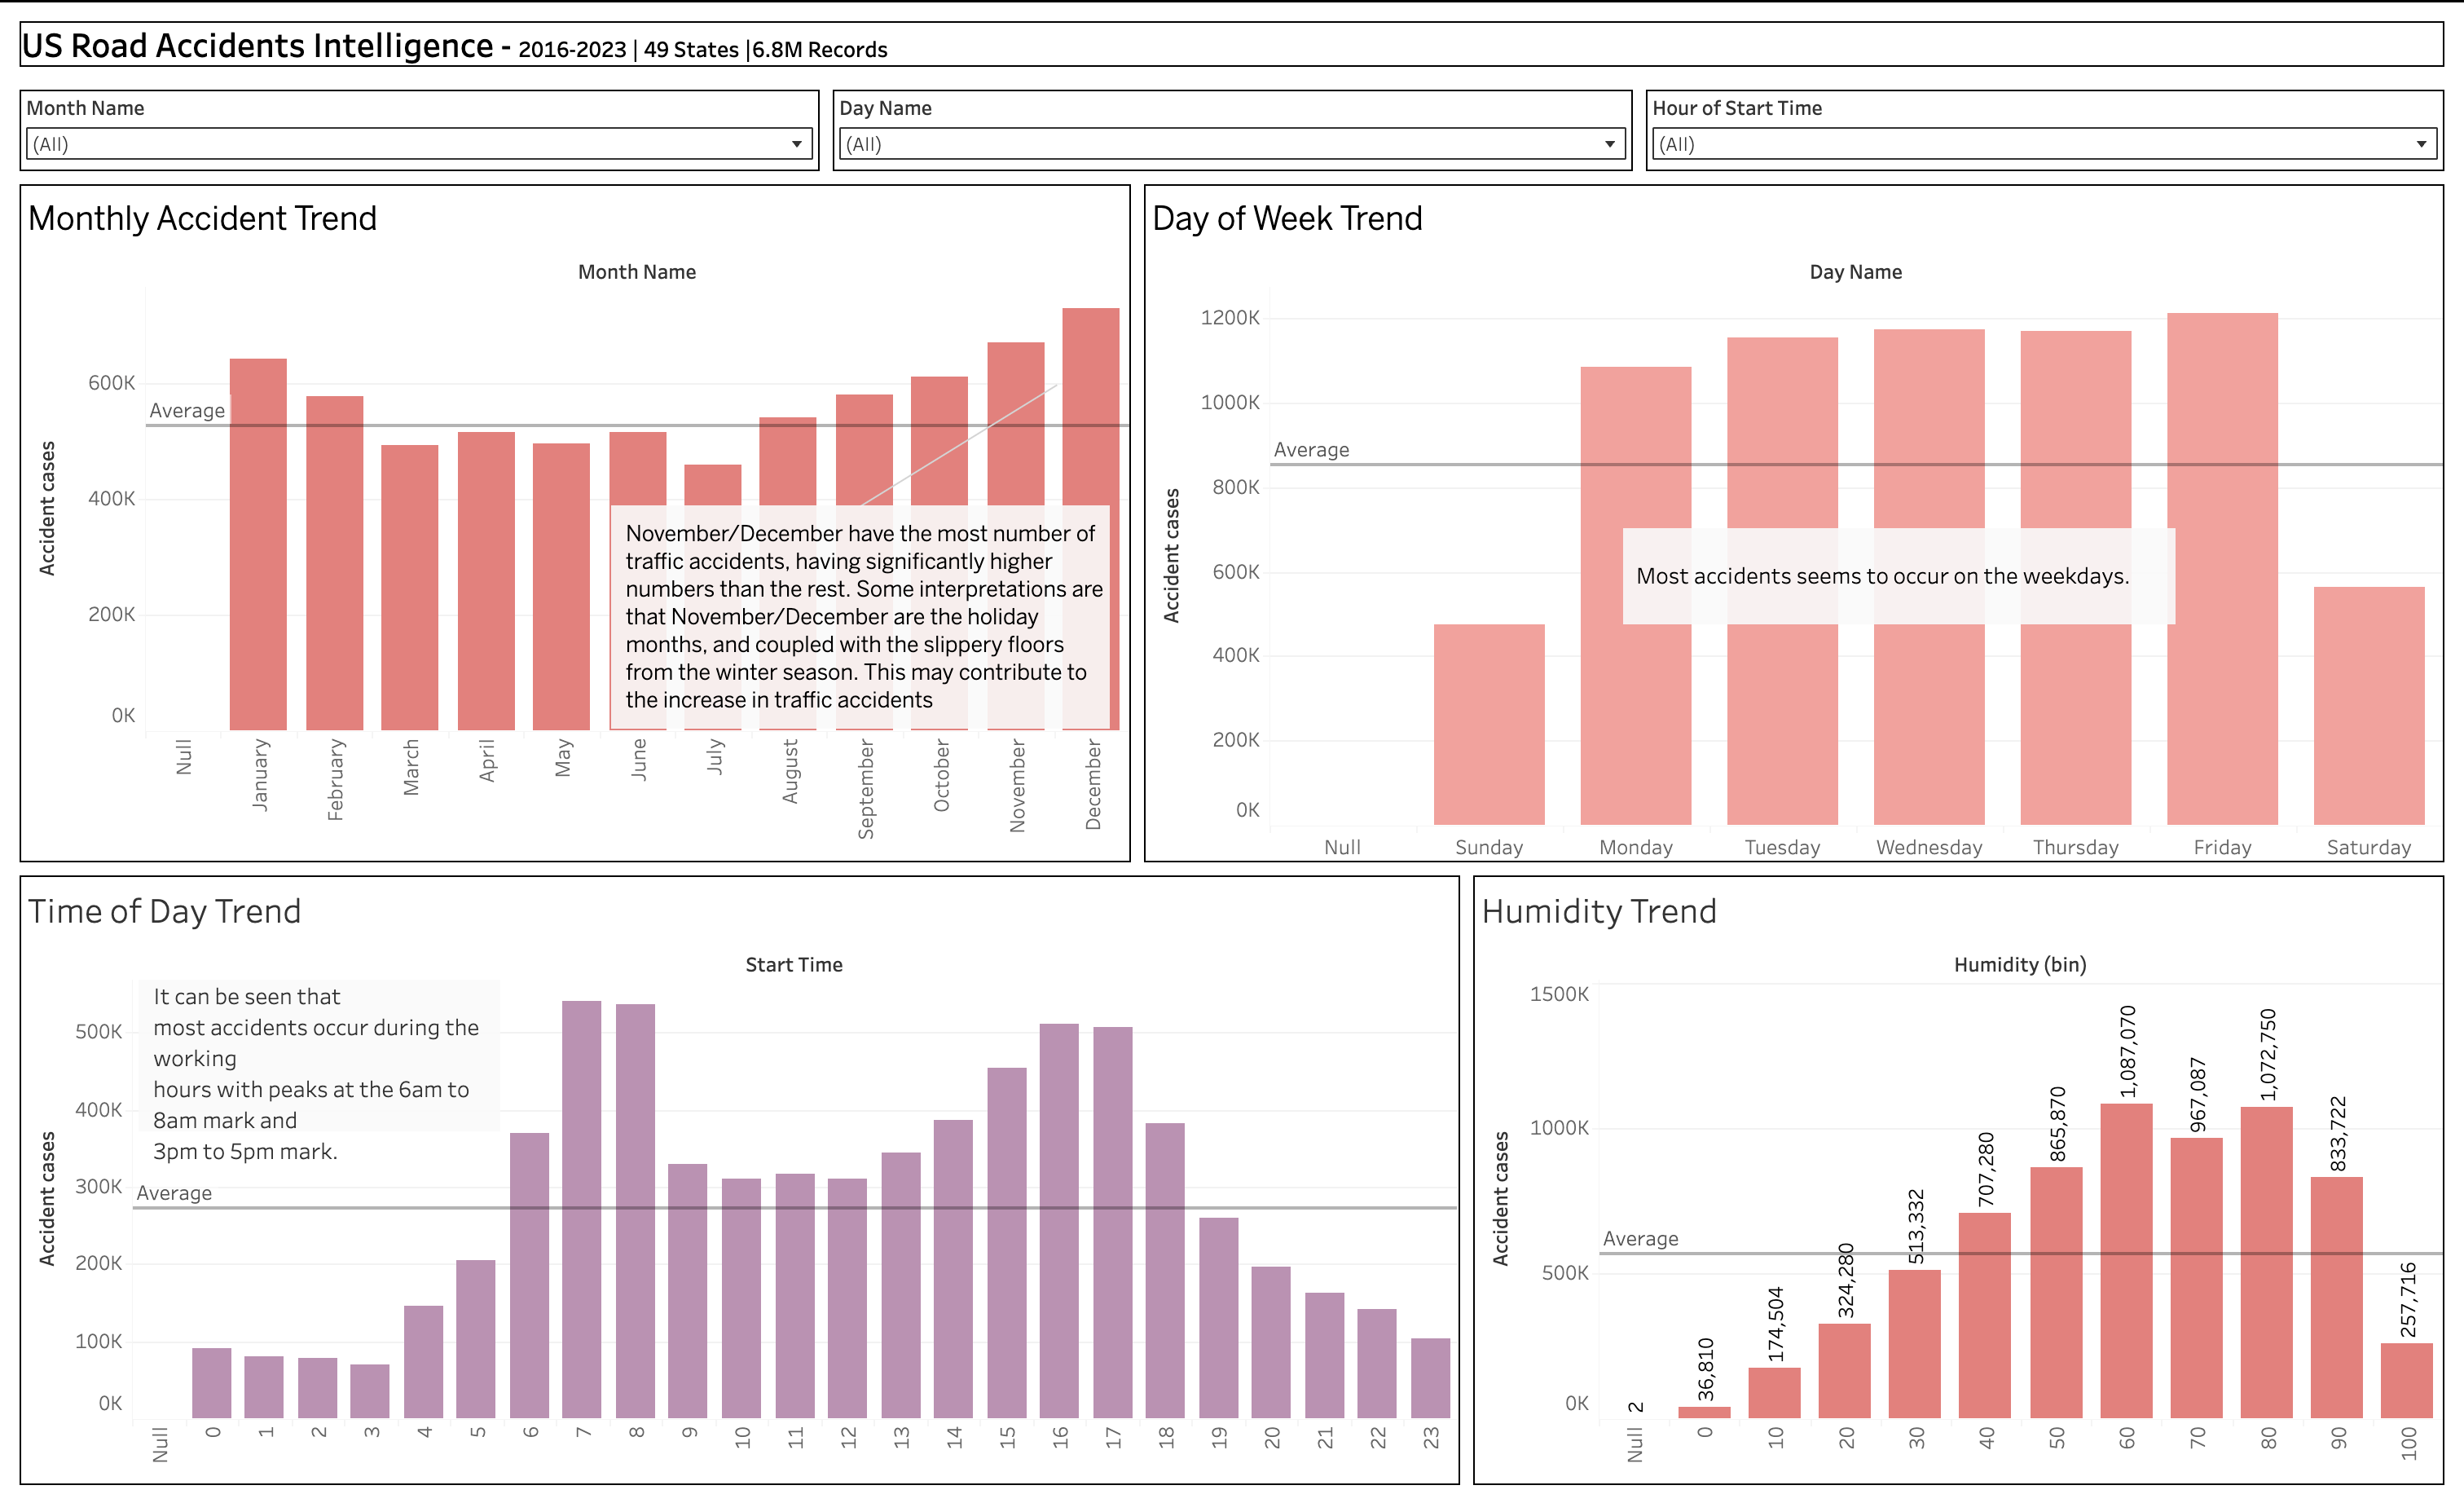

Layout of this report page (visuals, bound fields, positions):
{"tool":"tableau","page":{"name":"Dashboard 3","canvas":[1000,1000],"units":"permille","ordinal":2},"visuals":[{"type":"text","box":[6.4,9.3,987.2,42]},{"type":"filter","title":"Monthly Accident Trend","param":"[federated.0vynbig0w05bun196jmne17aki0o].[none:month_name:nk]","box":[6.4,58.3,329.3,63]},{"type":"filter","title":"Day of Week Trend","param":"[federated.0vynbig0w05bun196jmne17aki0o].[none:day_name:nk]","box":[335.7,58.3,329.3,63]},{"type":"filter","title":"Time of Day Trend","param":"[federated.0vynbig0w05bun196jmne17aki0o].[hr:start_time:ok]","box":[665.1,58.3,328.5,63]},{"type":"worksheet","title":"Monthly Accident Trend","mark":"Bar","rows":["tableau_ready_dataset.csv_8C1C7BC66160482F94DCC14117341AE9"],"cols":["month_name"],"box":[6.4,121.4,551.6,455.1]},{"type":"worksheet","title":"Day of Week Trend","mark":"Automatic","rows":["tableau_ready_dataset.csv_8C1C7BC66160482F94DCC14117341AE9"],"cols":["day_name"],"box":[557.9,121.4,435.6,455.1]},{"type":"worksheet","title":"Time of Day Trend","mark":"Bar","rows":["tableau_ready_dataset.csv_8C1C7BC66160482F94DCC14117341AE9"],"cols":["start_time"],"box":[6.4,576.4,588.3,414.2]},{"type":"worksheet","title":"Humidity","mark":"Automatic","rows":["tableau_ready_dataset.csv_8C1C7BC66160482F94DCC14117341AE9"],"cols":["Humidity (bin)"],"box":[594.7,576.4,398.9,414.2]}]}

Visuals, with their boxes on the dashboard's canvas, which has no fixed pixel size, in thousandths of its width and height (x1, y1, x2, y2). These are canvas units, not pixel positions in the 2464x1503 screenshot, which may show the page scaled, cropped or inside an application window:
text: l=6, t=9, r=994, b=51
"Monthly Accident Trend" filter: l=6, t=58, r=336, b=121
"Day of Week Trend" filter: l=336, t=58, r=665, b=121
"Time of Day Trend" filter: l=665, t=58, r=994, b=121
"Monthly Accident Trend" worksheet (Bar marks): l=6, t=121, r=558, b=576
"Day of Week Trend" worksheet: l=558, t=121, r=994, b=576
"Time of Day Trend" worksheet (Bar marks): l=6, t=576, r=595, b=991
"Humidity" worksheet: l=595, t=576, r=994, b=991
